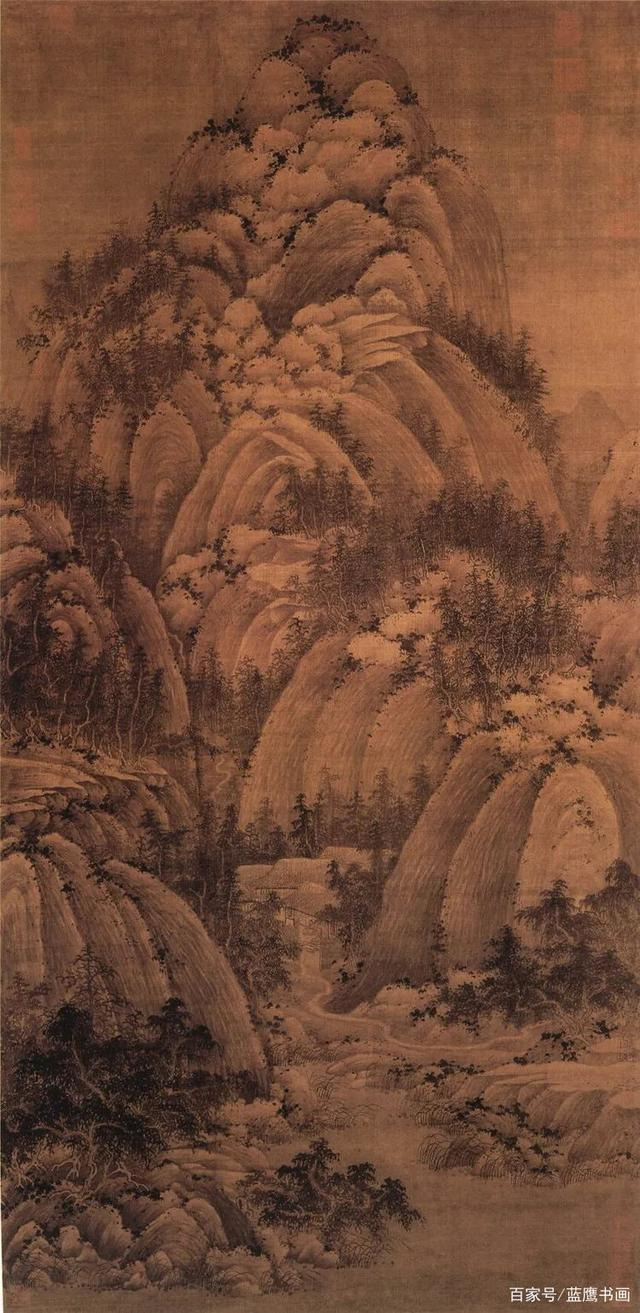house: (236, 852, 399, 964)
mountain: (42, 16, 611, 899)
river: (311, 1066, 635, 1276)
tree: (7, 972, 257, 1181), (6, 612, 161, 752), (401, 498, 572, 595), (262, 1151, 408, 1261), (431, 598, 579, 702), (28, 436, 135, 568), (144, 817, 239, 936), (88, 328, 185, 403), (472, 328, 551, 406), (290, 469, 361, 532), (43, 254, 122, 298)
